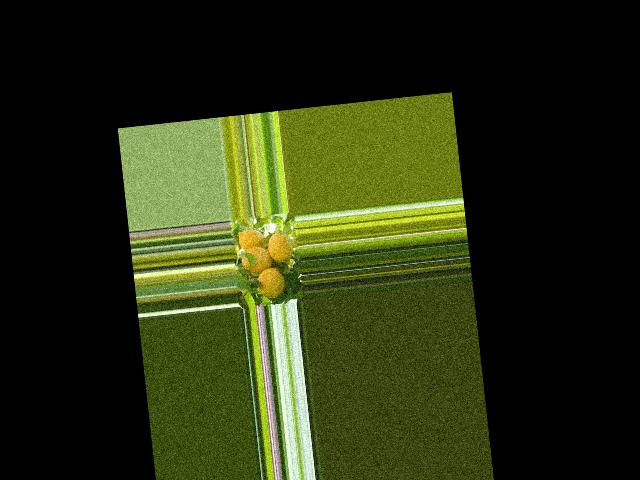lemon: (252, 266, 287, 301)
